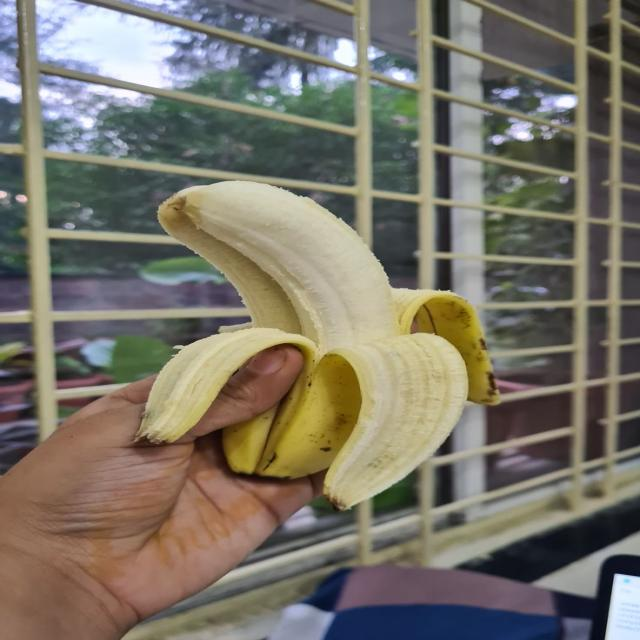banana: (139, 182, 497, 508)
